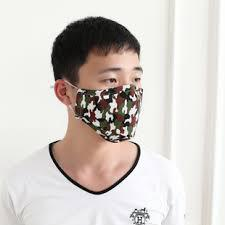OK: (70, 52, 145, 141)
